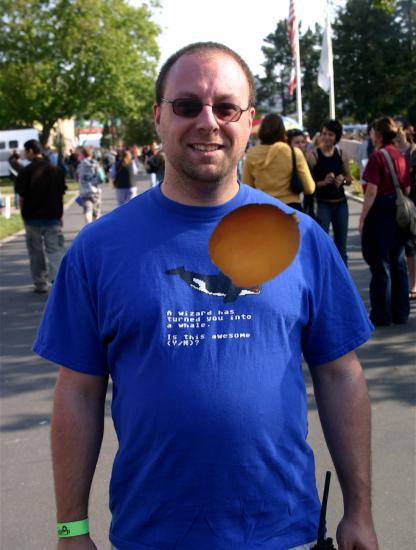Apricot: (208, 194, 305, 291)
